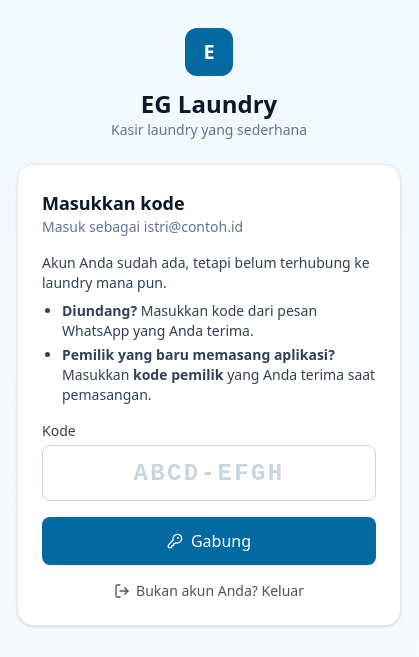
it: JoinOrganization › shows the rate-limit message from the server
Type "ABCDEFGH" into the field labelled "Kode" at x=209, y=473, box top-left (42, 445), bottom-right (376, 501)
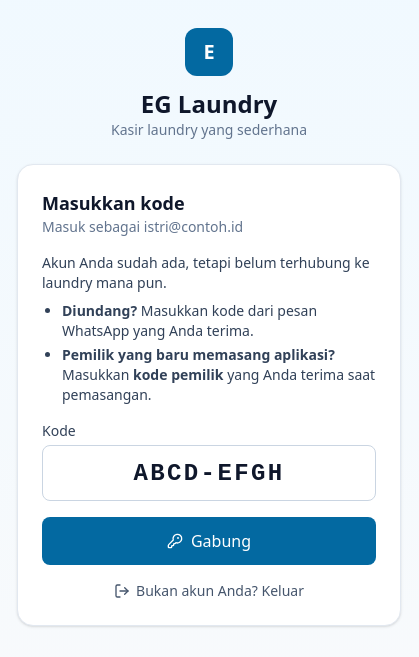
Click the button "Gabung" at x=209, y=541, box top-left (42, 517), bottom-right (376, 565)
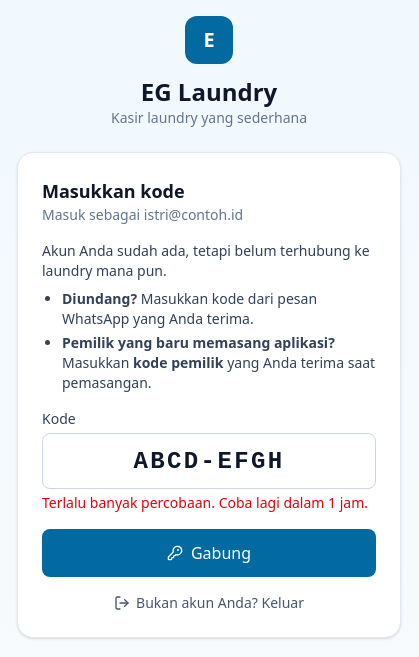
Expected: the button "Gabung" is enabled, top-left (42, 529), bottom-right (376, 577)
Result: the message reads "Terlalu banyak percobaan. Coba lagi dalam 1 jam." at top-left (42, 493), bottom-right (368, 512)
